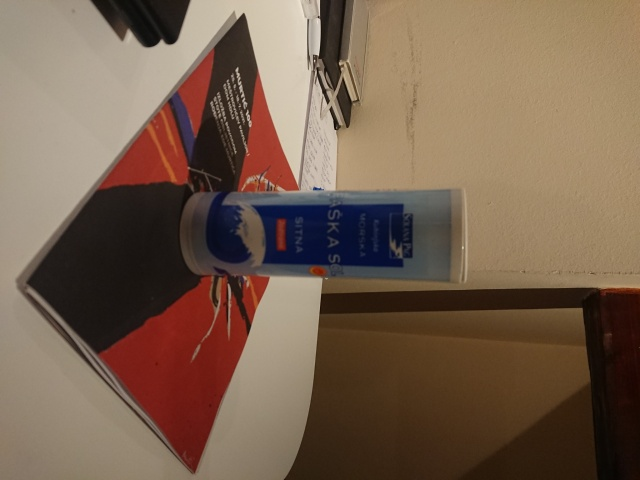Solana Pag Fine Sea Salt 250g: (173, 185, 472, 289)
